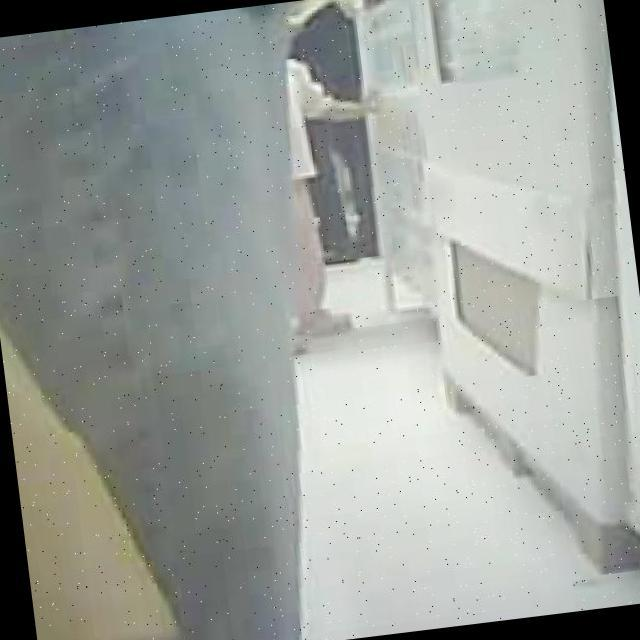person: (252, 52, 399, 355), (283, 0, 383, 270)
